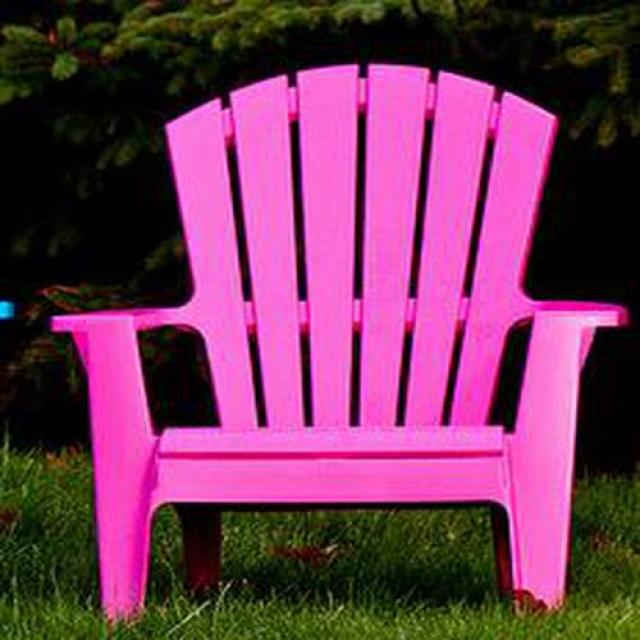chair: (46, 63, 628, 625)
